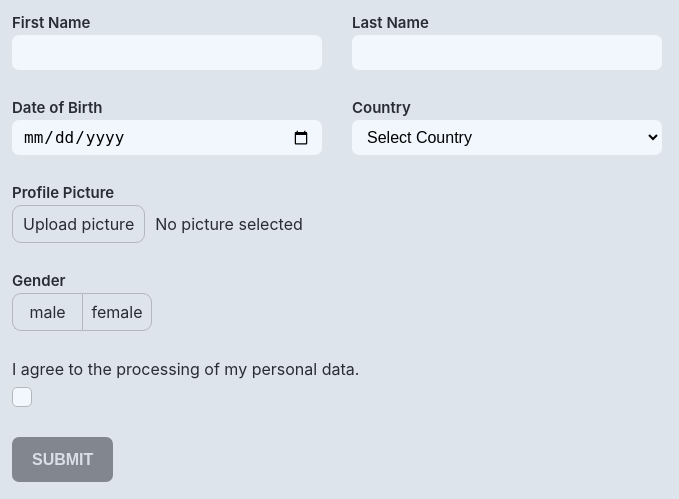
Test: Form Testing › Form button enabled after change input field "Agree" value
Click the checkbox with test id "formAgree" at (22, 397), box [12,387,32,407]
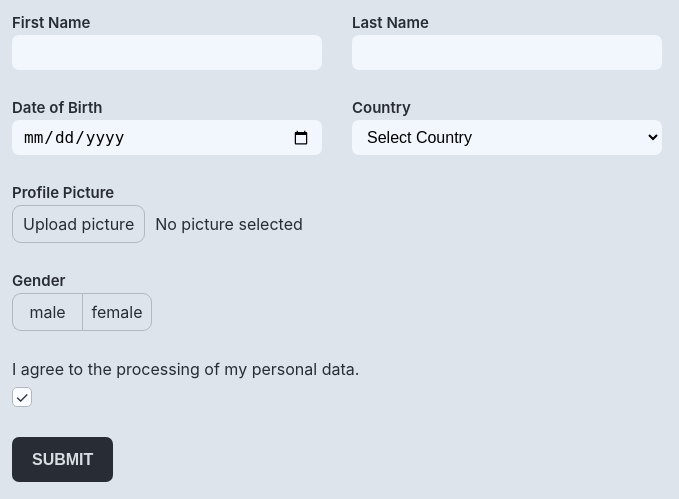
Check: the checkbox with test id "formAgree" is checked, box [12,387,32,407]
Check: the button with test id "formRegistrBtn" is enabled, box [12,437,113,482]
